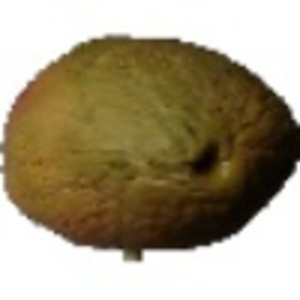mamão: (6, 32, 297, 251)
